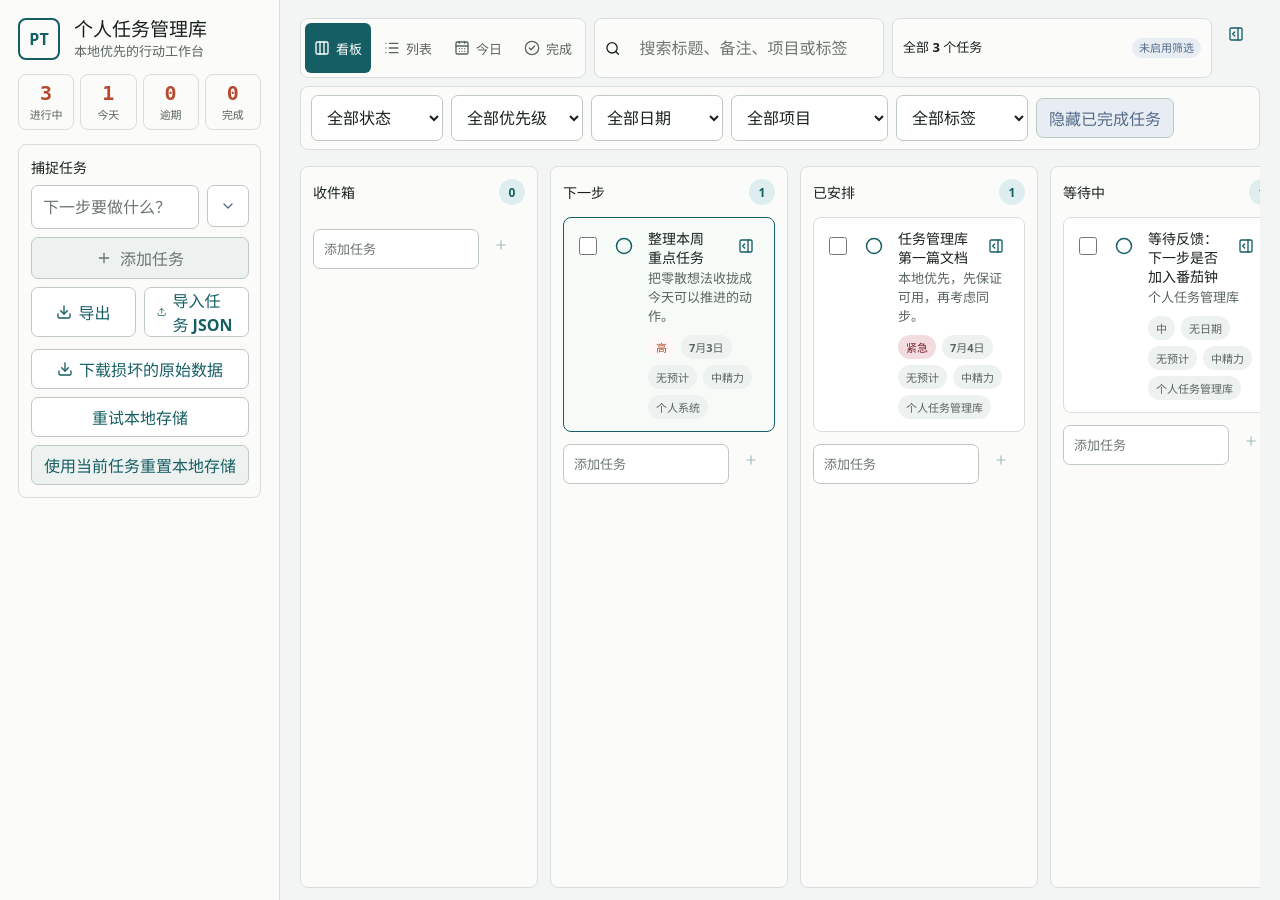
TaskWorkspace › explicitly resets damaged storage with the currently displayed tasks
What coordinates should you click on to do the following:
click the button "使用当前任务重置本地存储"
I would click on:
 (140, 465)
Its box is [31, 445, 249, 485].
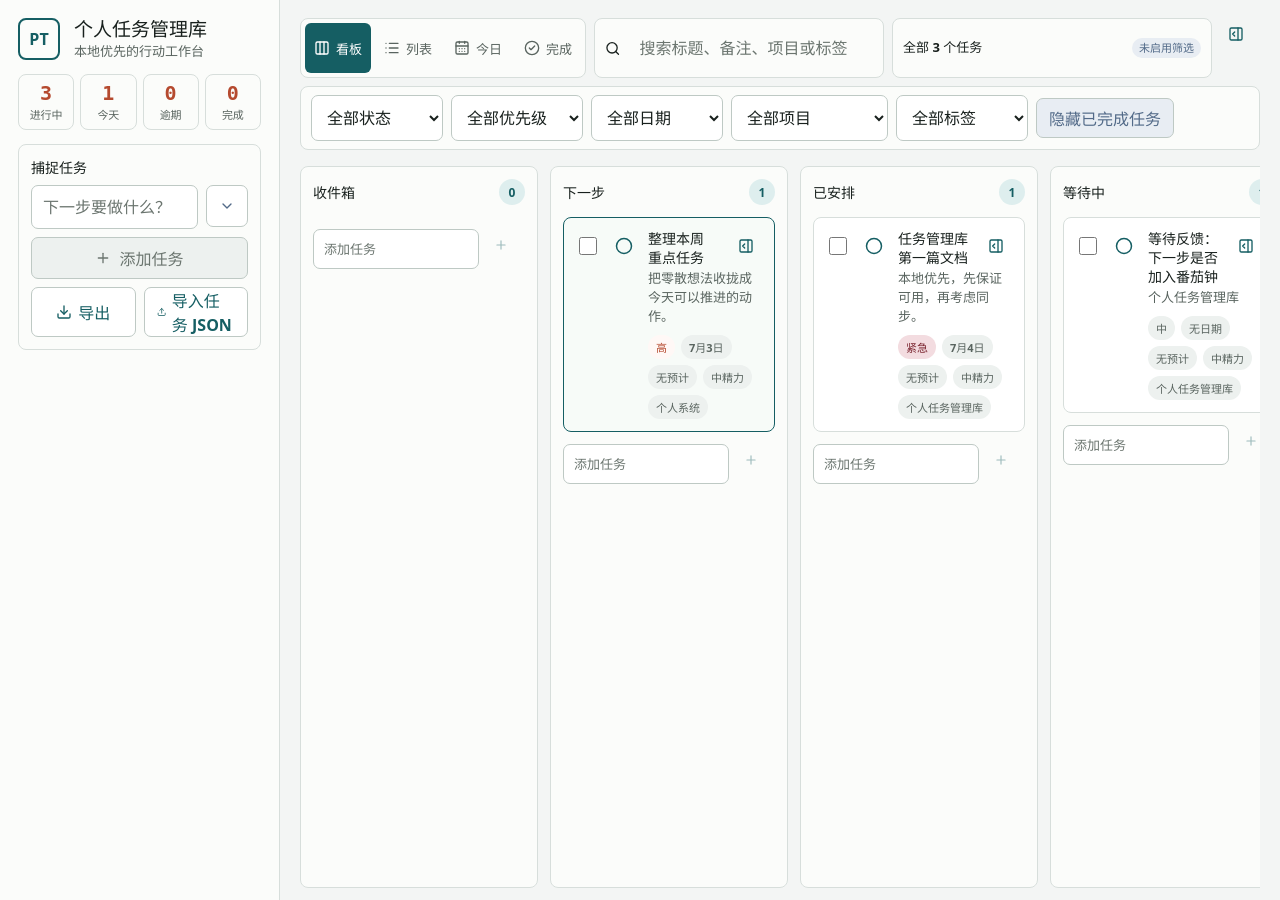
Now the button "下载损坏的原始数据" is gone
